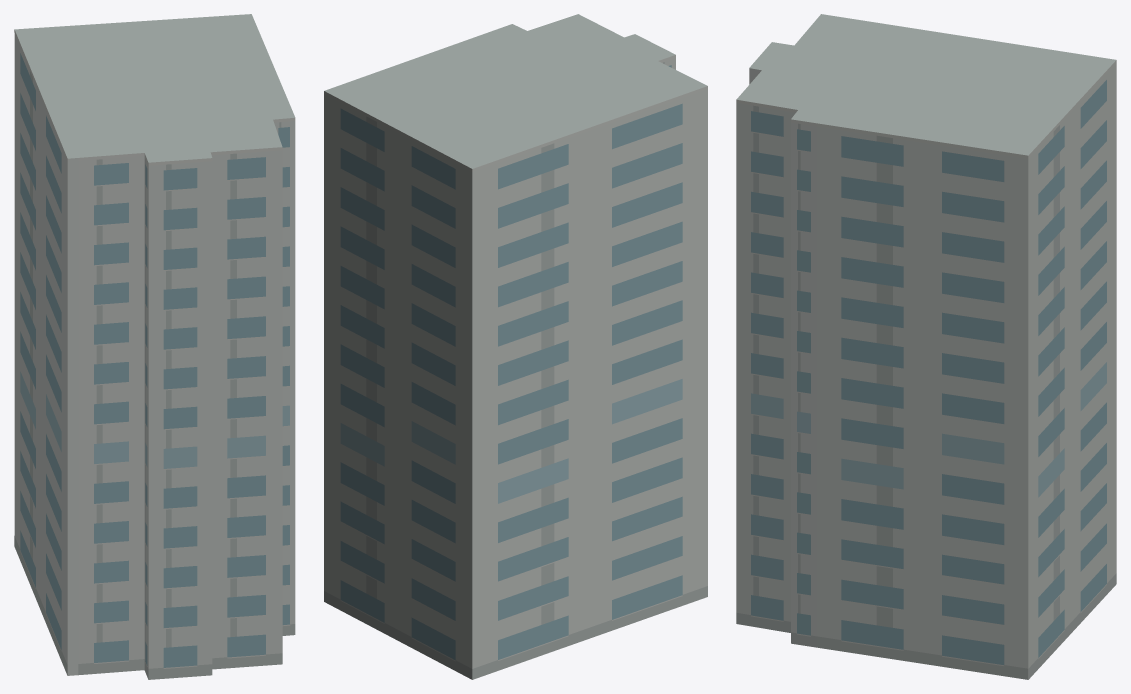
File: survey-upis-32883661.glb
3 views of the same model, side by side, from view 1: azimuth 30°, elevation 25°; view 2: azimuth 150°, elevation 25°; view 3: azimuth 270°, elevation 25° (orthographic). The views are drawn at different scales.
Parts seen in each view (by area): view 1: survey-upis-32883661.tmp; view 2: survey-upis-32883661.tmp; view 3: survey-upis-32883661.tmp.
Part boxes in pixels (box(x1,y1,x2,y2)): survey-upis-32883661.tmp: box(14, 14, 295, 679); survey-upis-32883661.tmp: box(324, 14, 707, 679); survey-upis-32883661.tmp: box(736, 14, 1116, 679).
Bounding box in the file's own units: 22.98 × 39.65 × 26.08.
